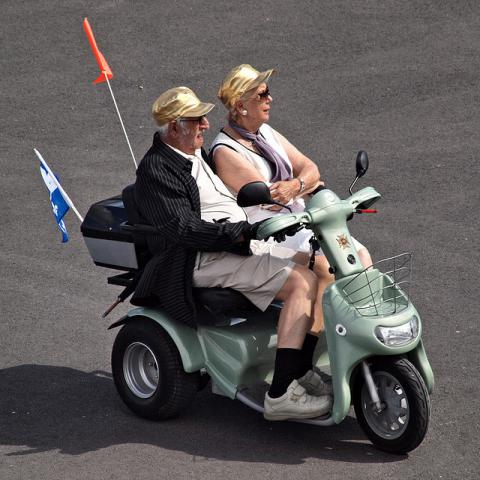motorcycle: (101, 152, 436, 457)
